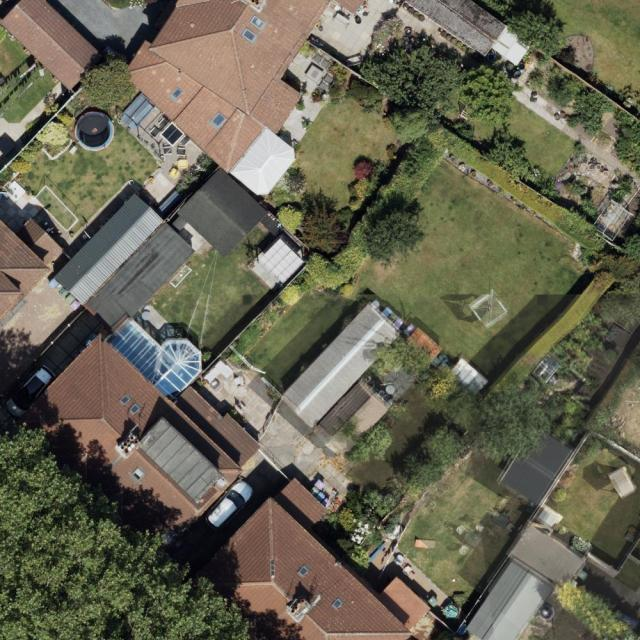roof: (21, 193, 263, 560), (125, 0, 363, 195), (198, 474, 436, 640), (0, 0, 108, 89), (0, 215, 65, 326)
skylight: (107, 318, 204, 403), (129, 464, 147, 481), (209, 111, 226, 129), (238, 28, 257, 43), (169, 88, 184, 104), (250, 15, 265, 29), (117, 392, 131, 406), (126, 402, 141, 415)
